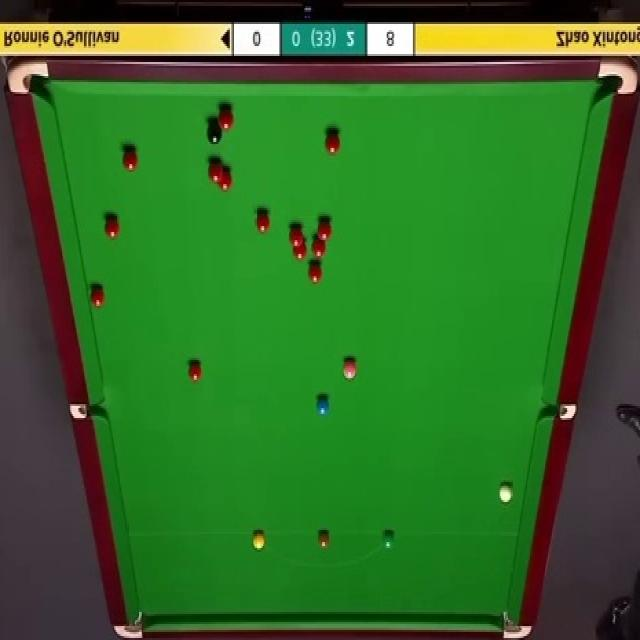black-ball: (207, 122, 224, 146)
blue-ball: (316, 393, 330, 418)
brown-ball: (317, 531, 330, 550)
green-ball: (381, 531, 394, 550)
pink-ball: (342, 356, 358, 378)
red-ball: (324, 128, 342, 159), (88, 282, 107, 309), (253, 208, 271, 236), (119, 148, 138, 174), (102, 216, 119, 242), (306, 262, 325, 284), (292, 238, 308, 264), (208, 160, 224, 184), (314, 232, 330, 255), (219, 169, 235, 191), (288, 225, 304, 247), (220, 105, 233, 131), (318, 221, 331, 242), (188, 362, 202, 380)
white-ball: (498, 482, 514, 504)
yellow-ball: (252, 531, 265, 550)
